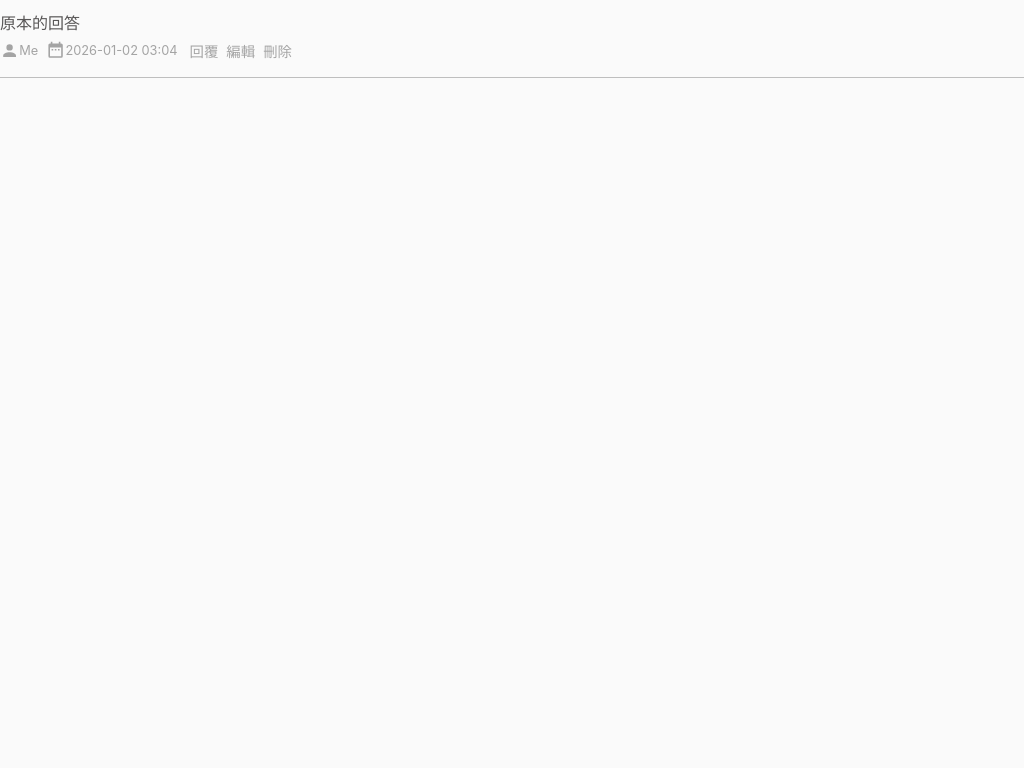
Test: AnswerCard › 刪除 › 點擊刪除先顯示確認視窗，焦點在「取消」
Click the text "刪除" at {"x": 278, "y": 52}, box [263,43,292,60]
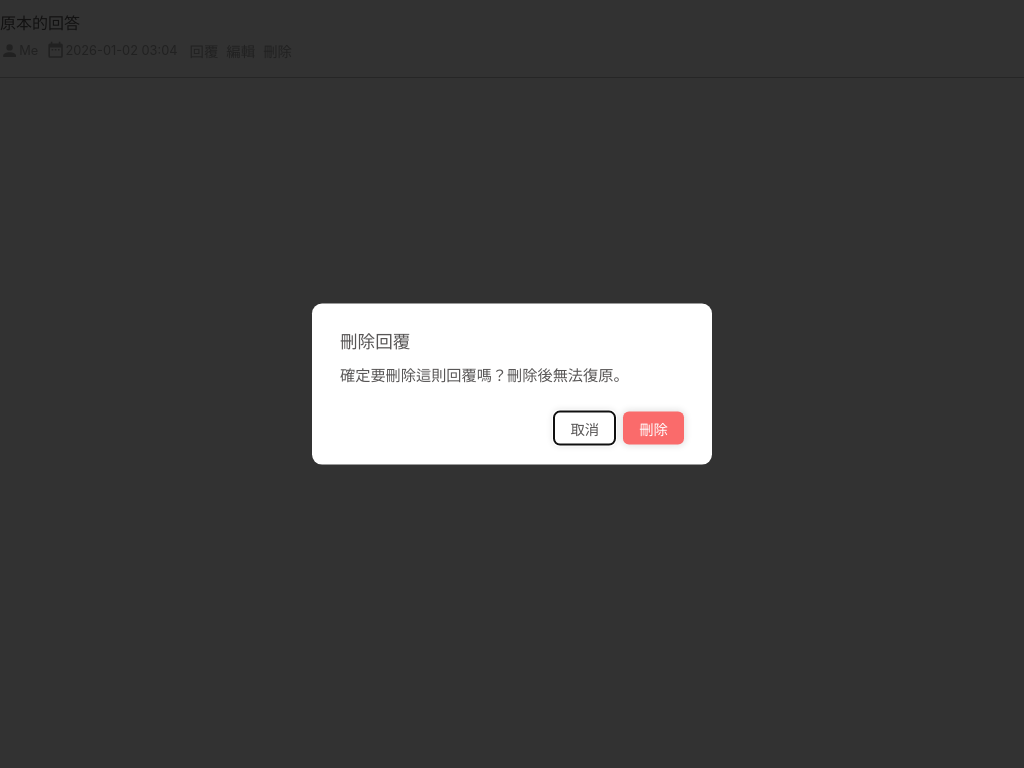
Check: the text "確定要刪除這則回覆嗎？刪除後無法復原。" is shown, box [340,366,629,385]
